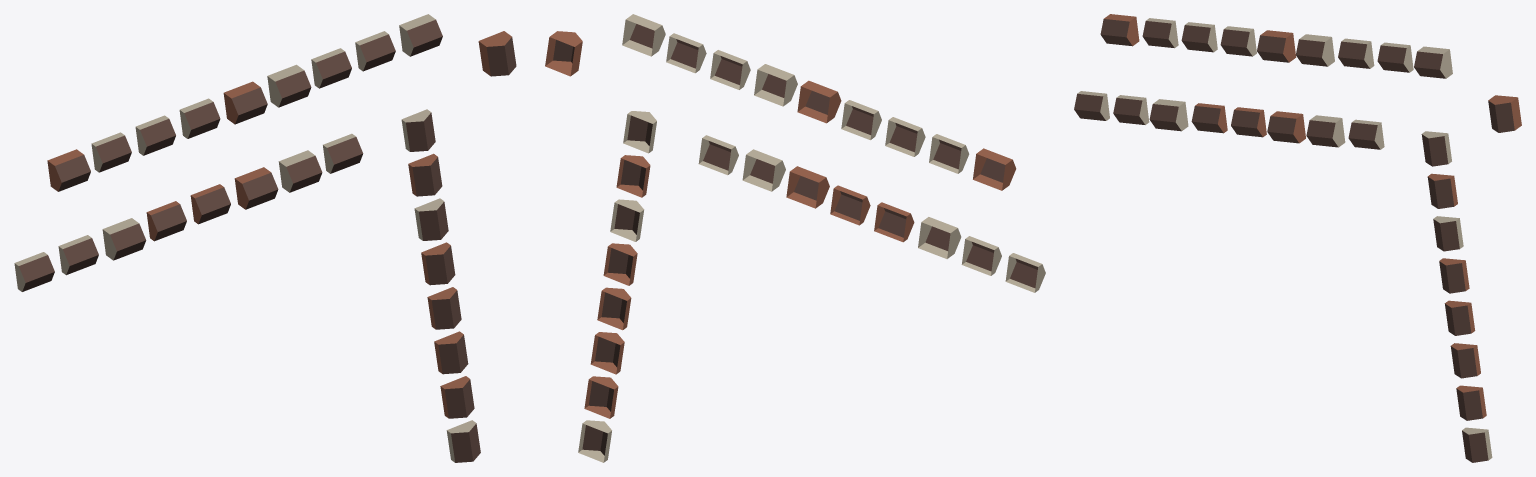
File: island_bldg_23_03.obj
The picture shows the model from 3 angles, left to right: view 1: azimuth 30°, elevation 25°; view 2: azimuth 150°, elevation 25°; view 3: azimuth 330°, elevation 25°; orthographic projection. The views are drawn at different scales.
Visible parts, largest first — view 1: island_bldg_23_03; view 2: island_bldg_23_03; view 3: island_bldg_23_03.
Part boxes in pixels (bbox=[...]): island_bldg_23_03: bbox=[14, 14, 516, 462]; island_bldg_23_03: bbox=[545, 14, 1045, 462]; island_bldg_23_03: bbox=[1074, 14, 1521, 462].
Size of the model in its own units: 267 by 233 by 13.
